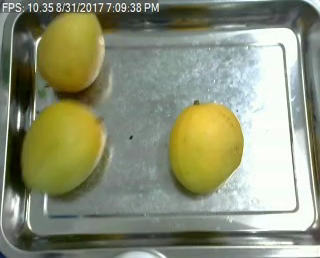Mango: (21, 101, 103, 195), (169, 103, 243, 192), (38, 10, 105, 92)
